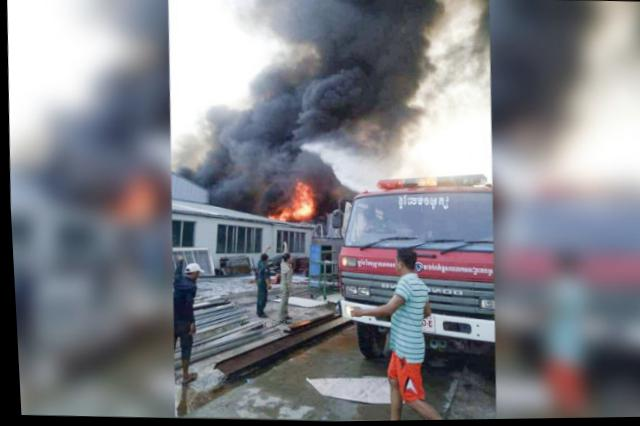fire: (289, 181, 315, 220), (272, 214, 291, 224)
smoke: (171, 0, 495, 182), (207, 172, 288, 208), (314, 174, 337, 205)
